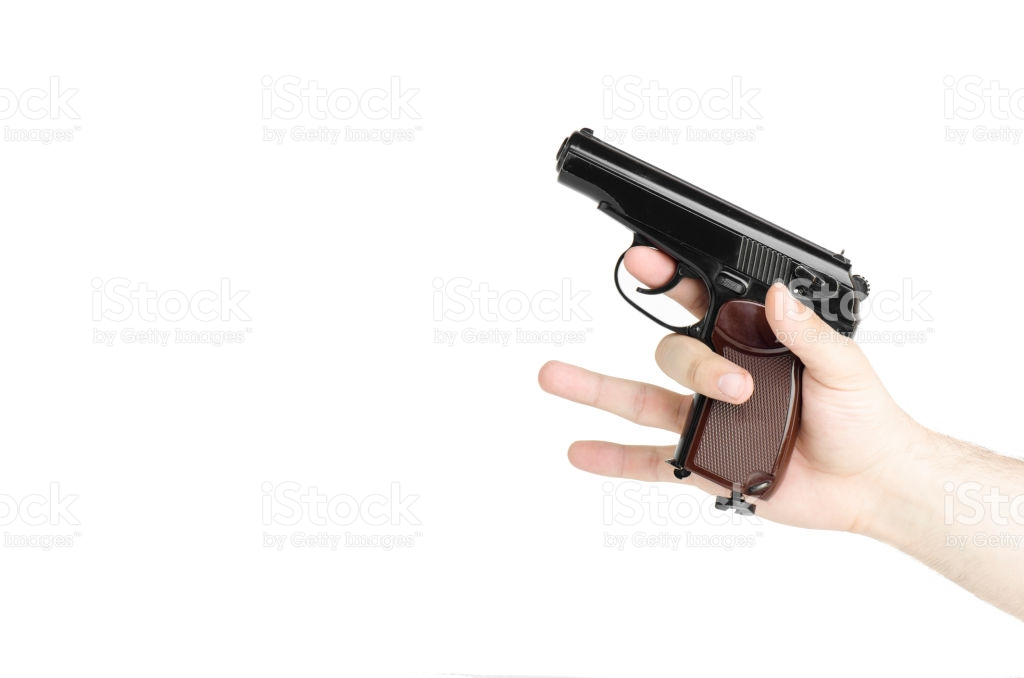pistol: (489, 102, 920, 620)
